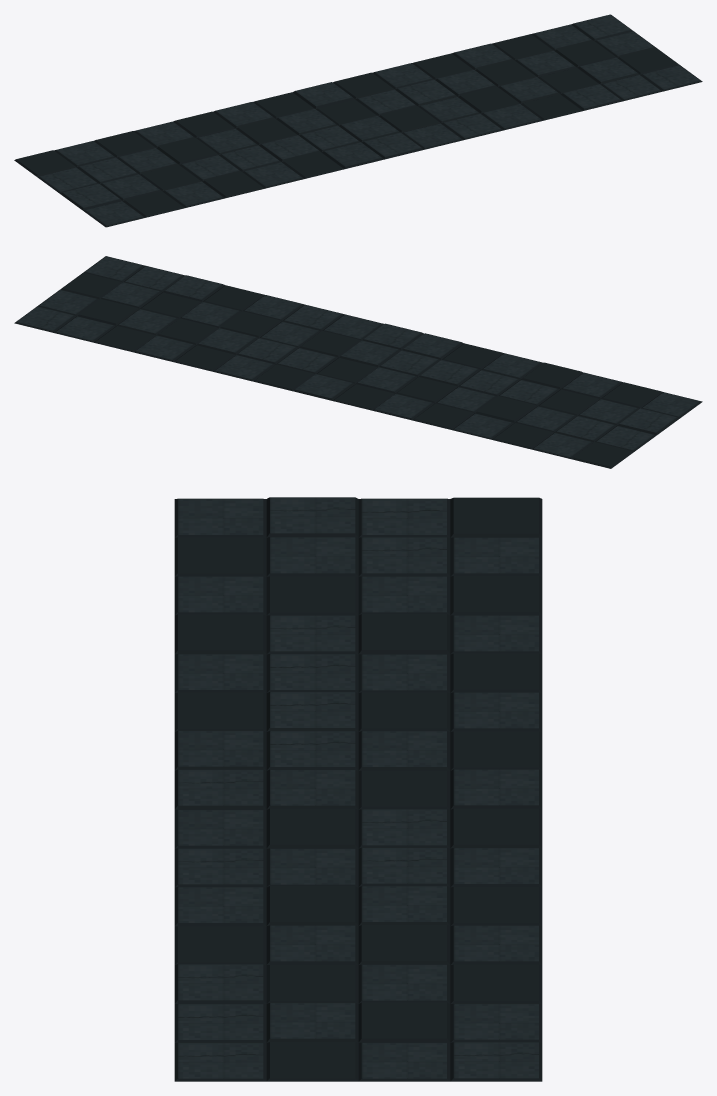
The model's file is T1_FloorStrip_W15_B.fbx.
3 renders of one model, top to bottom at view 1: azimuth 30°, elevation 25°; view 2: azimuth 150°, elevation 25°; view 3: azimuth 270°, elevation 25°, orthographic. The views are drawn at different scales.
Visible parts, largest first — view 1: T1_FloorStrip_W15_B; view 2: T1_FloorStrip_W15_B; view 3: T1_FloorStrip_W15_B.
Boxes of the visible parts, <box> form: T1_FloorStrip_W15_B: <box>14,14,702,227</box>; T1_FloorStrip_W15_B: <box>14,256,702,468</box>; T1_FloorStrip_W15_B: <box>174,497,542,1081</box>.
Bounding box in the file's own units: 16.88 × 0.0417 × 4.5.
